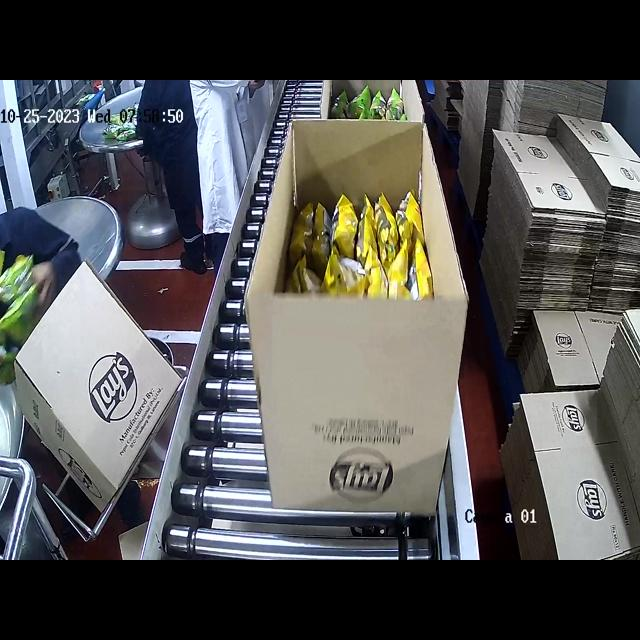salted: (295, 185, 432, 295)
yogurt: (340, 84, 405, 116)
